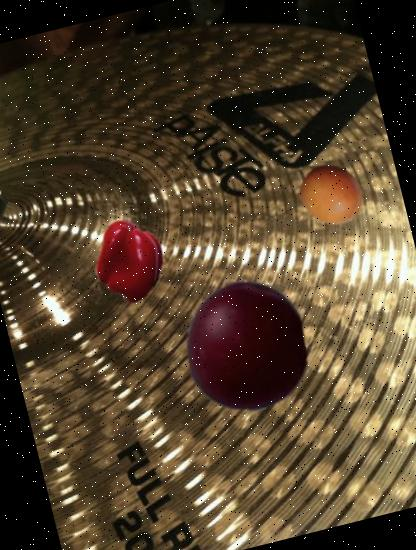Apricot: (292, 154, 372, 234)
Cherry: (168, 267, 326, 426)
Pepper: (84, 217, 174, 306)
